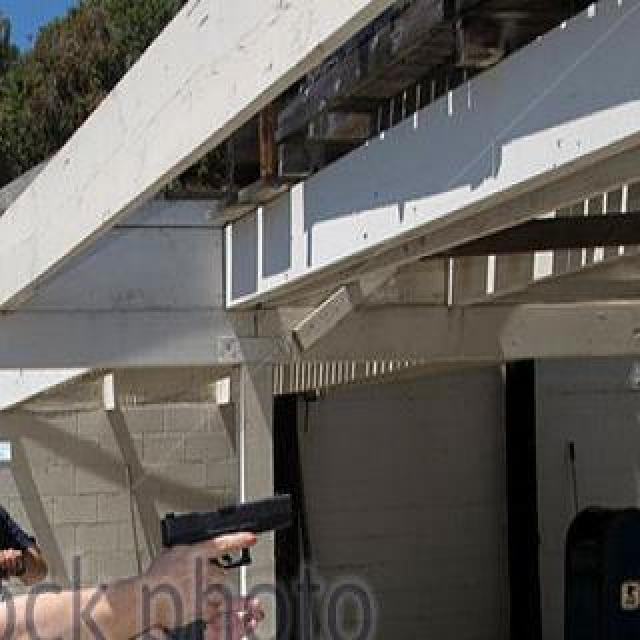Guns: (150, 470, 308, 630)
